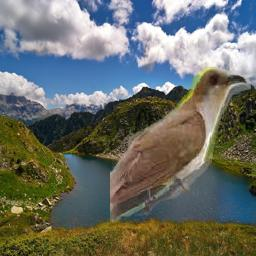Cuckoo: (111, 67, 252, 223)
